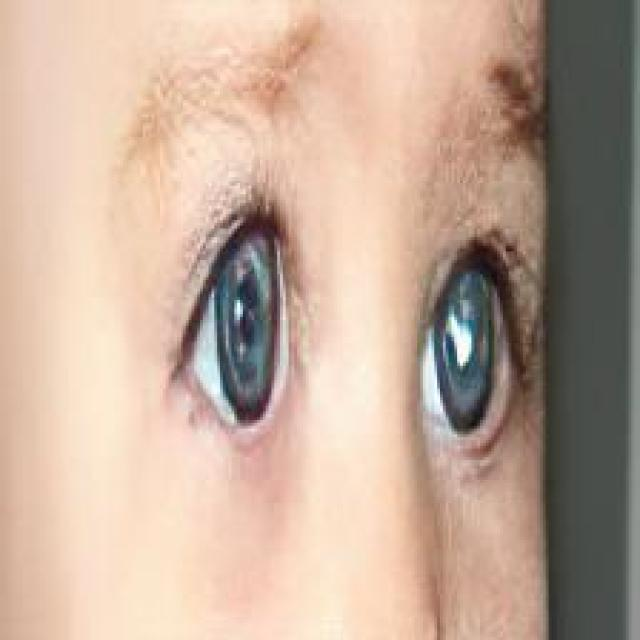reflexo-alterado: (149, 191, 308, 455), (404, 248, 530, 483)
